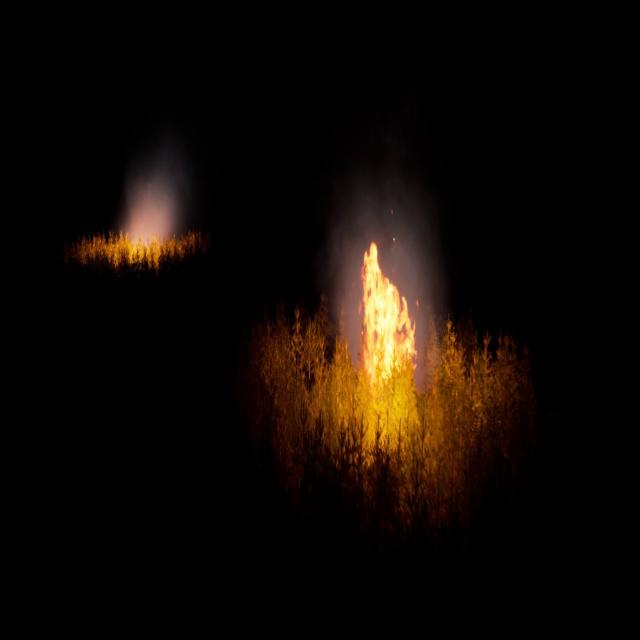fire: (358, 241, 418, 391)
smoke: (323, 172, 448, 388), (118, 152, 187, 248)
